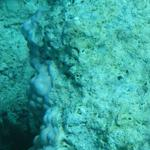dead: (1, 2, 148, 149)
